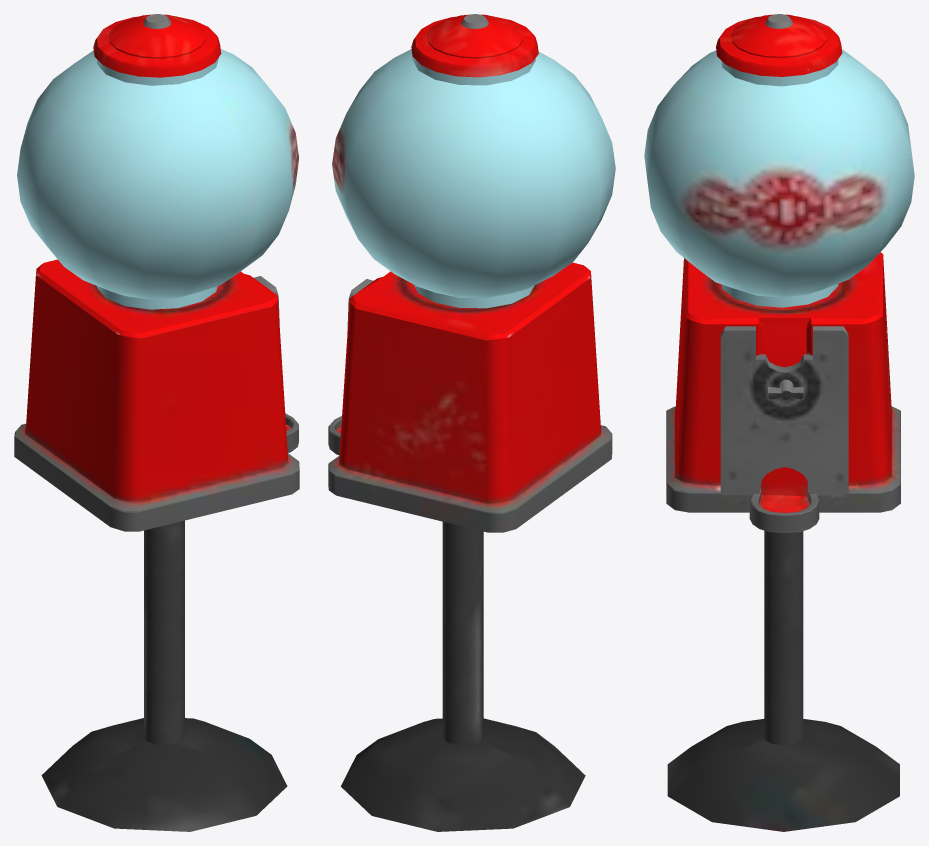
Rendered from Bubblegum.glb.
3 views of the same model, side by side, from view 1: azimuth 30°, elevation 25°; view 2: azimuth 150°, elevation 25°; view 3: azimuth 270°, elevation 25° (orthographic).
Size of the model in its own units: 120 by 336 by 109.
Materials: 1 (1 with a texture image).
